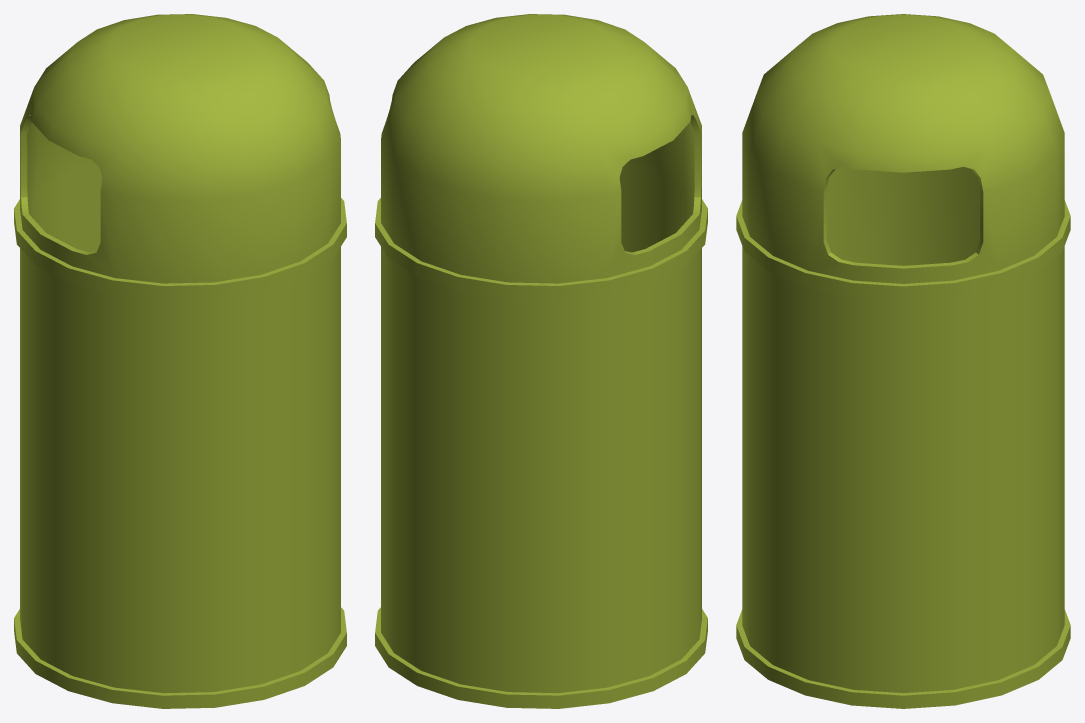
Rendered from TreshCan4_1.fbx.
3 views of the same model, side by side, from view 1: azimuth 30°, elevation 25°; view 2: azimuth 150°, elevation 25°; view 3: azimuth 270°, elevation 25° (orthographic).
Parts seen in each view (by area): view 1: TreshCan2.039; view 2: TreshCan2.039; view 3: TreshCan2.039.
Part boxes in pixels (x1,y1,x2,y2): TreshCan2.039: [14, 14, 346, 708]; TreshCan2.039: [375, 14, 707, 708]; TreshCan2.039: [736, 14, 1070, 708].
Size of the model in its own units: 51.1 by 100 by 51.1.
